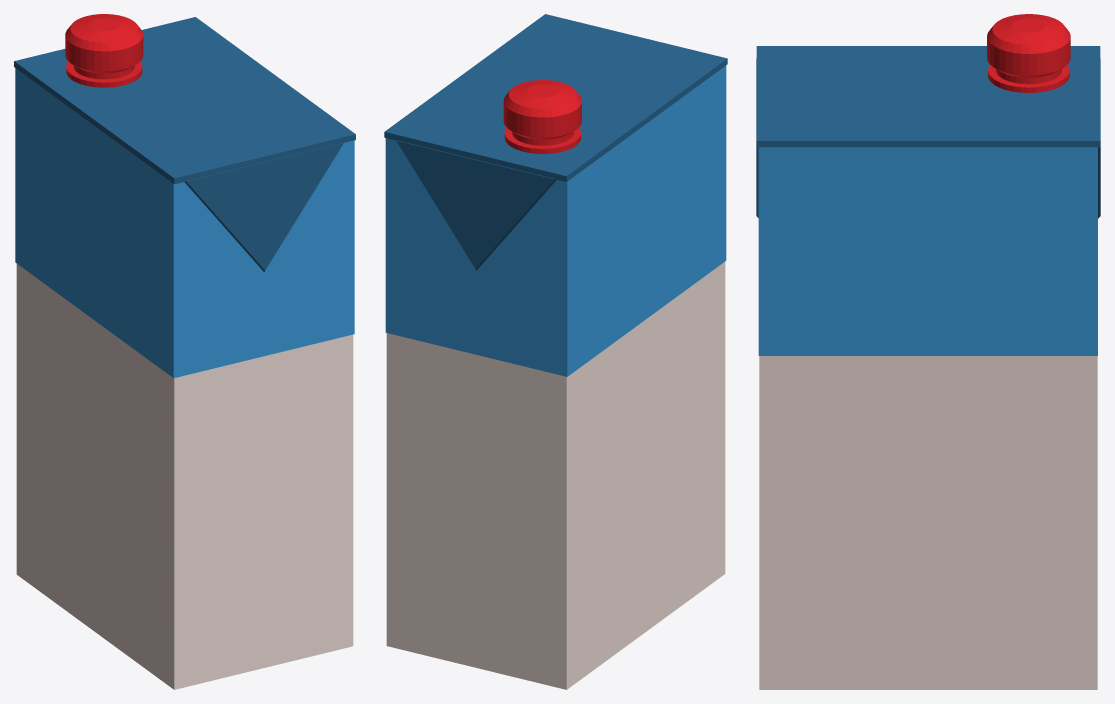
Rendered from sutKutusu1.fbx.
3 renders of one model, left to right at view 1: azimuth 30°, elevation 25°; view 2: azimuth 150°, elevation 25°; view 3: azimuth 270°, elevation 25°, orthographic. The views are drawn at different scales.
Parts seen in each view (by area): view 1: Cube, Circle.001; view 2: Cube, Circle.001; view 3: Cube, Circle.001.
Boxes of the visible parts, x1=… form: Cube: x1=14, y1=17, x2=355, y2=689; Circle.001: x1=65, y1=14, x2=143, y2=66; Cube: x1=384, y1=14, x2=727, y2=689; Circle.001: x1=503, y1=80, x2=581, y2=132; Cube: x1=756, y1=46, x2=1100, y2=689; Circle.001: x1=987, y1=14, x2=1070, y2=70.
Bounding box in the file's own units: 106 × 311 × 162.
